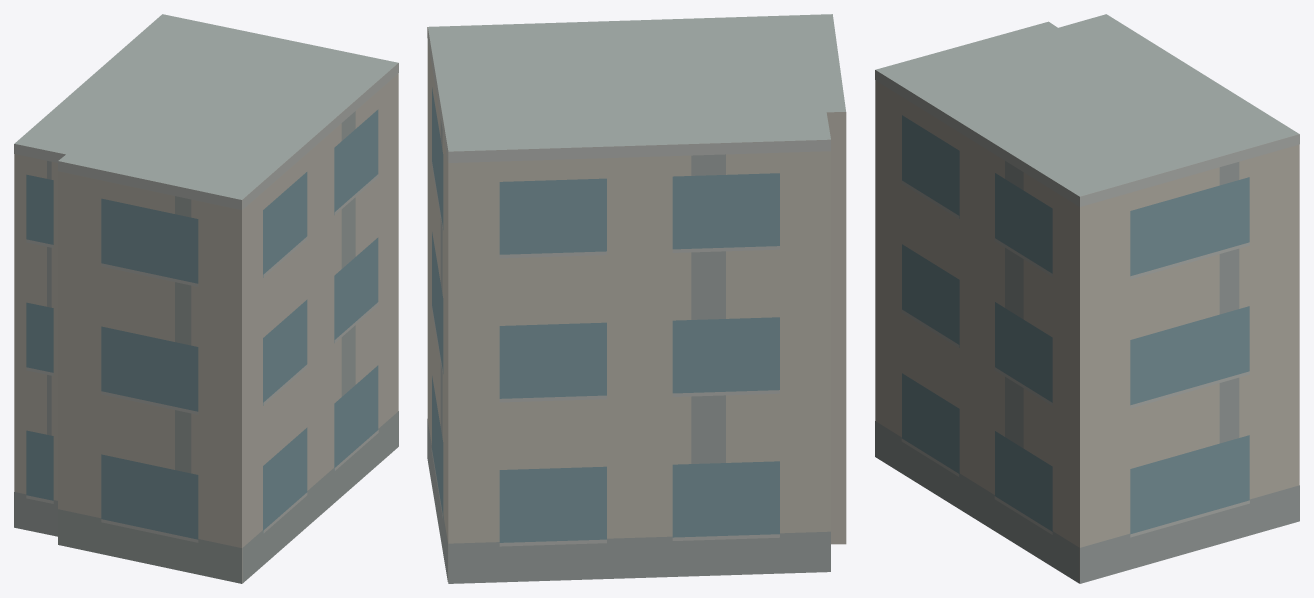
Rendered from residential-2d950aa7-8ff1-47c7-b7cd-cb0c00a66590.glb.
3 renders of one model, left to right at view 1: azimuth 30°, elevation 25°; view 2: azimuth 150°, elevation 25°; view 3: azimuth 270°, elevation 25°, orthographic. The views are drawn at different scales.
Visible parts, largest first — view 1: residential-2d950aa7-8ff1-47c7-b7cd-cb0c00a66590.tmp; view 2: residential-2d950aa7-8ff1-47c7-b7cd-cb0c00a66590.tmp; view 3: residential-2d950aa7-8ff1-47c7-b7cd-cb0c00a66590.tmp.
Boxes of the visible parts, x1=… form: residential-2d950aa7-8ff1-47c7-b7cd-cb0c00a66590.tmp: x1=14, y1=14, x2=398, y2=583; residential-2d950aa7-8ff1-47c7-b7cd-cb0c00a66590.tmp: x1=427, y1=14, x2=846, y2=583; residential-2d950aa7-8ff1-47c7-b7cd-cb0c00a66590.tmp: x1=875, y1=14, x2=1299, y2=583.
Bounding box in the file's own units: 9.27 × 9.15 × 9.1.
